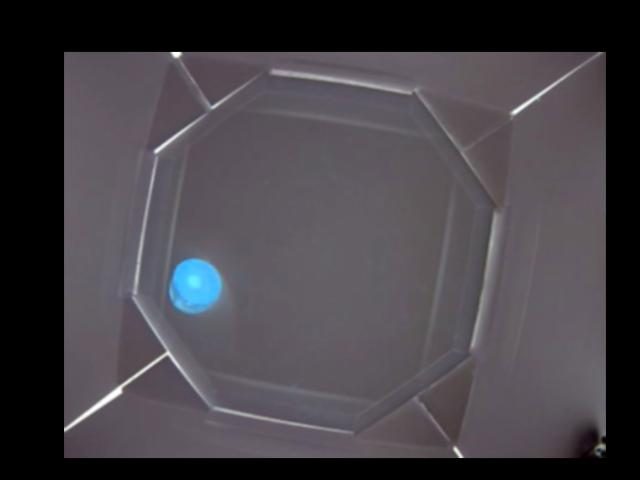Carrot: (169, 259, 218, 312)
